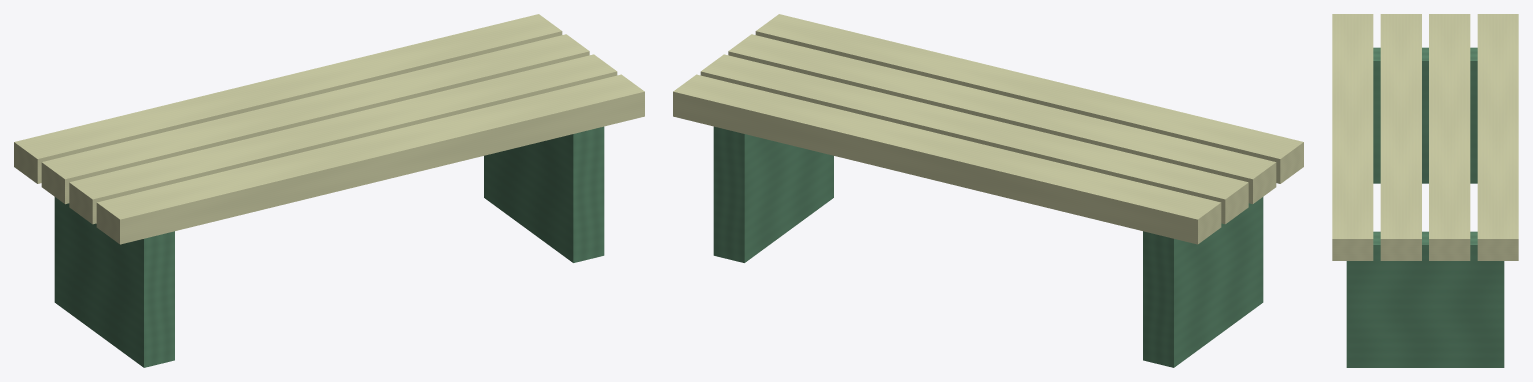
File: atlas100-solarpunk-util03.glb
The picture shows the model from 3 angles, left to right: view 1: azimuth 30°, elevation 25°; view 2: azimuth 150°, elevation 25°; view 3: azimuth 270°, elevation 25°; orthographic projection. The views are drawn at different scales.
Parts seen in each view (by area): view 1: atlas100-solarpunk-util03:part-005, atlas100-solarpunk-util03:part-003, atlas100-solarpunk-util03:part-002, atlas100-solarpunk-util03:part-004, atlas100-solarpunk-util03:part-000, atlas100-solarpunk-util03:part-001; view 2: atlas100-solarpunk-util03:part-002, atlas100-solarpunk-util03:part-004, atlas100-solarpunk-util03:part-003, atlas100-solarpunk-util03:part-005, atlas100-solarpunk-util03:part-000, atlas100-solarpunk-util03:part-001; view 3: atlas100-solarpunk-util03:part-001, atlas100-solarpunk-util03:part-002, atlas100-solarpunk-util03:part-003, atlas100-solarpunk-util03:part-004, atlas100-solarpunk-util03:part-005, atlas100-solarpunk-util03:part-000.
Boxes of the visible parts, box(x1,y1,x2,y2) form: atlas100-solarpunk-util03:part-005: box(96, 74, 644, 244); atlas100-solarpunk-util03:part-003: box(41, 34, 589, 204); atlas100-solarpunk-util03:part-002: box(14, 14, 562, 183); atlas100-solarpunk-util03:part-004: box(69, 54, 617, 224); atlas100-solarpunk-util03:part-000: box(54, 197, 174, 367); atlas100-solarpunk-util03:part-001: box(484, 126, 604, 262); atlas100-solarpunk-util03:part-002: box(673, 74, 1221, 244); atlas100-solarpunk-util03:part-004: box(728, 34, 1276, 204); atlas100-solarpunk-util03:part-003: box(700, 54, 1248, 224); atlas100-solarpunk-util03:part-005: box(755, 14, 1303, 183); atlas100-solarpunk-util03:part-000: box(1143, 197, 1263, 367); atlas100-solarpunk-util03:part-001: box(713, 126, 833, 262); atlas100-solarpunk-util03:part-001: box(1346, 231, 1504, 367); atlas100-solarpunk-util03:part-002: box(1477, 14, 1518, 260); atlas100-solarpunk-util03:part-003: box(1429, 14, 1470, 260); atlas100-solarpunk-util03:part-004: box(1380, 14, 1421, 260); atlas100-solarpunk-util03:part-005: box(1332, 14, 1373, 260); atlas100-solarpunk-util03:part-000: box(1373, 47, 1477, 183).
Size of the model in its own units: 2.3 by 0.6799 by 0.8054.
2 materials, 2 textured.
